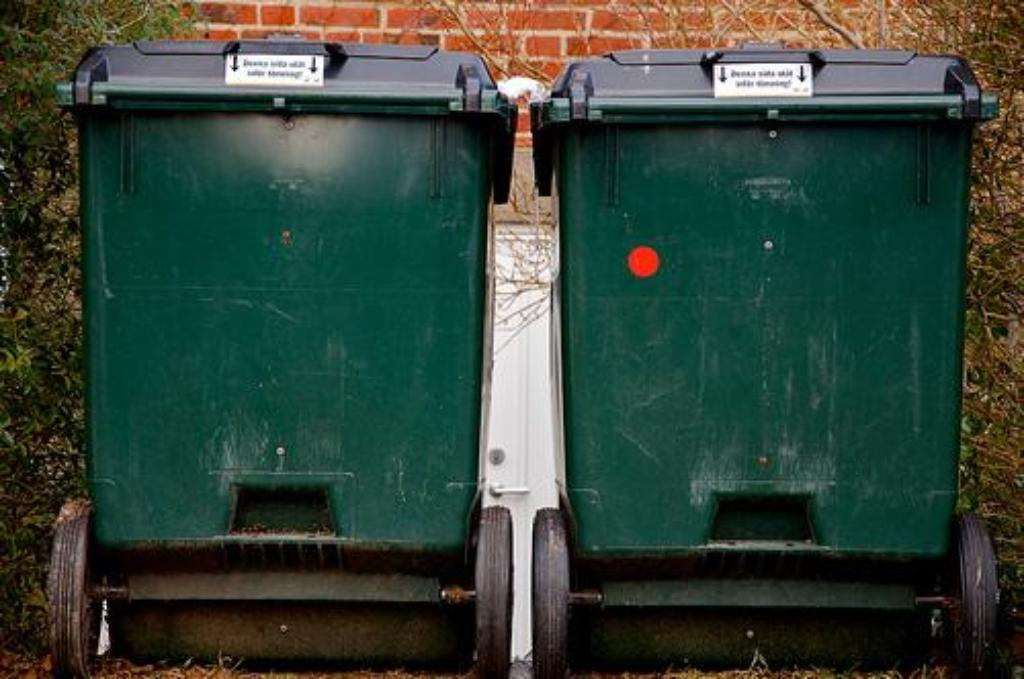dustbin: (539, 45, 1003, 679), (64, 35, 517, 668)
